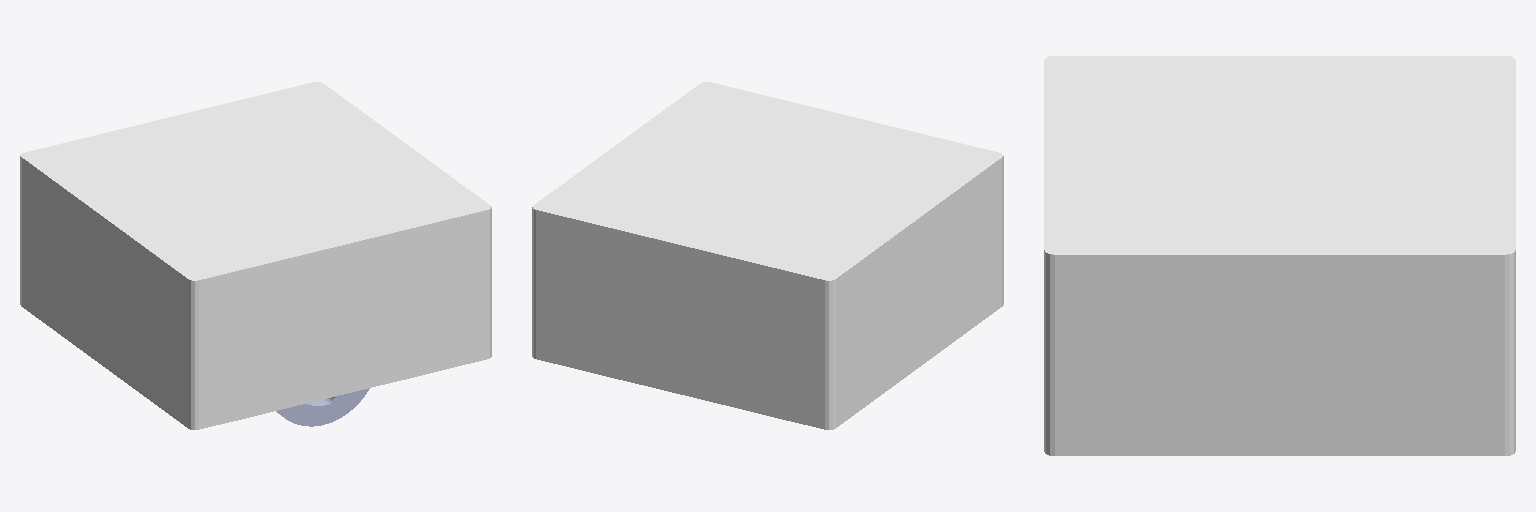
The robot description file, URDF, robot "obstacle_bot":
<?xml version="1.0" encoding="utf-8"?>
<!-- This URDF was automatically created by SolidWorks to URDF Exporter! Originally created by [author] ([email redacted]) 
     Commit Version: 1.6.0-4-g7f85cfe  Build Version: 1.6.7995.38578
     For more information, please see http://wiki.ros.org/sw_urdf_exporter -->
<robot
  name="obstacle_bot">

  <link name="world"/>

  <joint name="world_to_base" type="fixed"> 
  <parent link="world"/> 
  <child link="Base"/> 
  <origin xyz="0 0 0" rpy="0 0 0"/> 
  </joint>

  <link
    name="Base">
    <inertial>
      <origin
        xyz="0.000347860221219569 -0.00022078659827918 0.02013419400868"
        rpy="0 0 0" />
      <mass
        value="0.158789661904281" />
      <inertia
        ixx="0.000120955908449999"
        ixy="-5.54901389592471E-09"
        ixz="2.11621830995395E-12"
        iyy="0.000106976801620136"
        iyz="1.17835285284199E-08"
        izz="0.000199911261698313" />
    </inertial>
    <visual>
      <origin
        xyz="0 0 0"
        rpy="0 0 0" />
      <geometry>
        <mesh
          filename="package://obstacle_bot_cpp/meshes/Base.STL" />
      </geometry>
      <material
        name="">
        <color
          rgba="1 1 1 0.3" />
      </material>
    </visual>
    <collision>
      <origin
        xyz="0 0 0"
        rpy="0 0 0" />
      <geometry>
        <mesh
          filename="package://obstacle_bot_cpp/meshes/Base.STL" />
      </geometry>
    </collision>
  </link>

  <!-- Right wheel -->

  <link
    name="Roda_R">
    <inertial>
      <origin
        xyz="-1.61192384686426E-05 5.92261211948553E-07 -0.00526077489261616"
        rpy="0 0 0" />
      <mass
        value="0.00450889108722995" />
      <inertia
        ixx="3.66772266501771E-07"
        ixy="-5.03799170776947E-12"
        ixz="5.78564586393147E-11"
        iyy="3.66632511331917E-07"
        iyz="-2.01139615867715E-12"
        izz="7.05171812889771E-07" />
    </inertial>
    <visual>
      <origin
        xyz="0 0 0"
        rpy="0 0 0" />
      <geometry>
        <mesh
          filename="package://obstacle_bot_cpp/meshes/Roda_R.STL" />
      </geometry>
      <material
        name="">
        <color
          rgba="0.792156862745098 0.819607843137255 0.933333333333333 1" />
      </material>
    </visual>
    <collision>
      <origin
        xyz="0 0 0"
        rpy="0 0 0" />
      <geometry>
        <mesh
          filename="package://obstacle_bot_cpp/meshes/Roda_R.STL" />
      </geometry>
    </collision>
  </link>

  <joint
    name="Roda_R"
    type="continuous">
    <origin
      xyz="0 -0.0403 0.008"
      rpy="1.5708 0 0" />
    <parent
      link="Base" />
    <child
      link="Roda_R" />
    <axis
      xyz="0 0 1" />
  </joint>

  <!-- Left wheel -->

  <link
    name="Roda_L">
    <inertial>
      <origin
        xyz="-1.59382893452631E-05 2.48023283061505E-06 0.00344092449495452"
        rpy="0 0 0" />
      <mass
        value="0.00450889108722995" />
      <inertia
        ixx="3.66769166430637E-07"
        ixy="-2.11901365590379E-11"
        ixz="5.72204092122228E-11"
        iyy="3.66635611403051E-07"
        iyz="-8.788645537468E-12"
        izz="7.05171812889771E-07" />
    </inertial>
    <visual>
      <origin
        xyz="0 0 0"
        rpy="0 0 0" />
      <geometry>
        <mesh
          filename="package://obstacle_bot_cpp/meshes/Roda_L.STL" />
      </geometry>
      <material
        name="">
        <color
          rgba="0.792156862745098 0.819607843137255 0.933333333333333 1" />
      </material>
    </visual>
    <collision>
      <origin
        xyz="0 0 0"
        rpy="0 0 0" />
      <geometry>
        <mesh
          filename="package://obstacle_bot_cpp/meshes/Roda_L.STL" />
      </geometry>
    </collision>
  </link>

  <joint
    name="Roda_L"
    type="continuous">
    <origin
      xyz="0 0.0403 0.008"
      rpy="1.5708 0 0" />
    <parent
      link="Base" />
    <child
      link="Roda_L" />
    <axis
      xyz="0 0 1" />
  </joint>
</robot>

--- What the picture shows (computed from the rendered views, not written in the file) ---
The picture shows the robot from 3 angles, left to right: view 1: azimuth 30°, elevation 25°; view 2: azimuth 150°, elevation 25°; view 3: azimuth 270°, elevation 25°; orthographic projection.
Model obstacle_bot with 4 links and 3 joints (2 continuous, 1 fixed), rooted at world, posed all joints at 0.
Links seen in each view (by area): view 1: Base, Roda_R; view 2: Base; view 3: Base.
Link boxes in pixels (<box>): Base: <box>20,82,491,429</box>; Roda_R: <box>276,388,369,426</box>; Base: <box>532,82,1003,429</box>; Base: <box>1044,56,1515,455</box>.
Bounding box of the posed robot: 0.091 × 0.091 × 0.055 m (x, y, z).
Meshes: 3 distinct files referenced, 2 mesh visuals loaded (2 binary STL); not drawn: 1 (reference not matched to a file when rendering).
